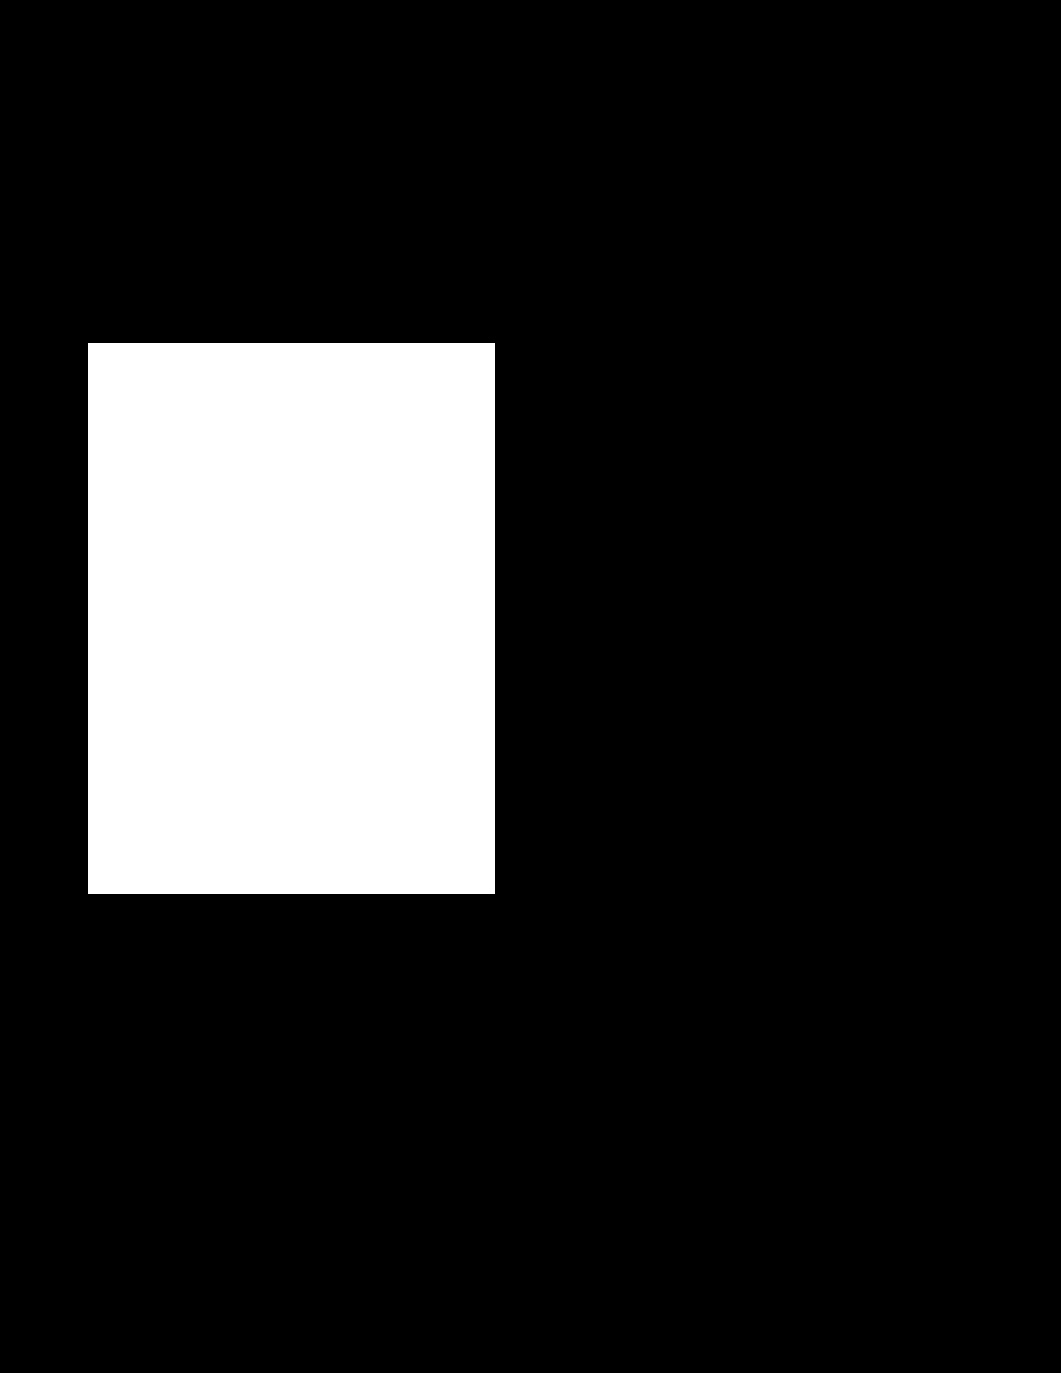table: (88, 343, 494, 893)
